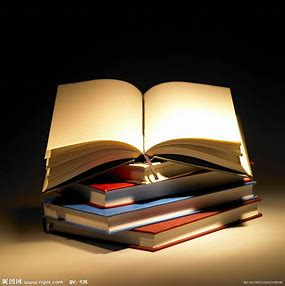book: (37, 78, 258, 195), (40, 180, 262, 233), (48, 199, 264, 252), (66, 178, 224, 209), (92, 161, 220, 184)
